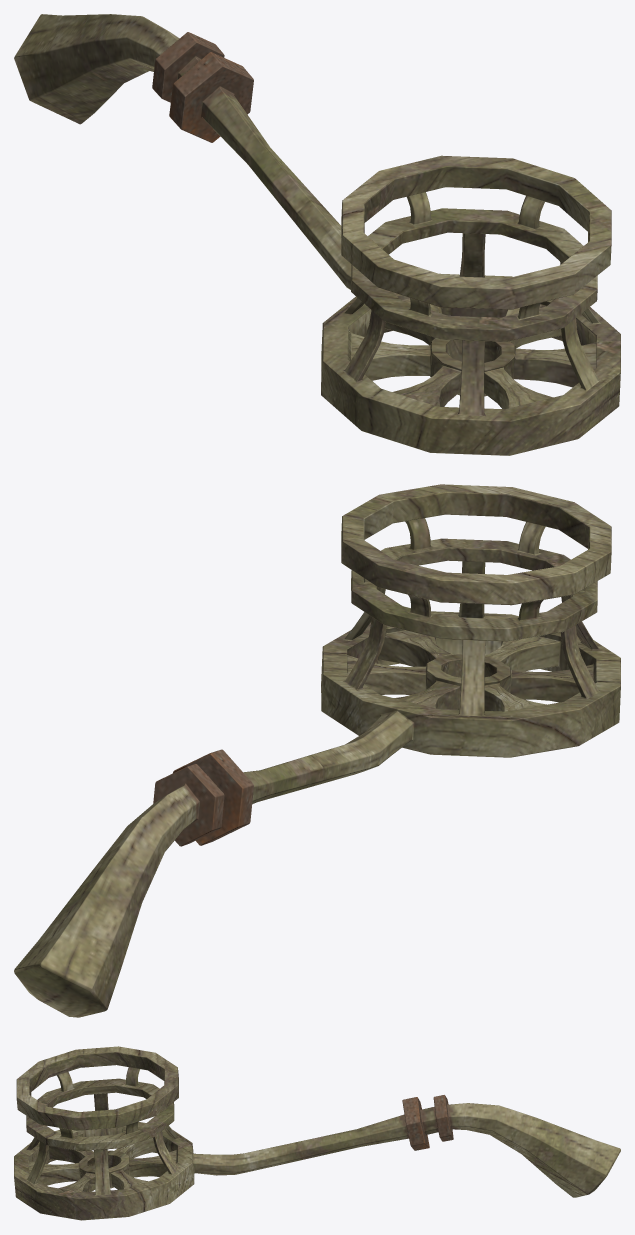
File: lamps_1_2.fbx
3 renders of one model, top to bottom at view 1: azimuth 30°, elevation 25°; view 2: azimuth 150°, elevation 25°; view 3: azimuth 270°, elevation 25°, orthographic. The views are drawn at different scales.
Visible parts, largest first — view 1: lamps_1_2; view 2: lamps_1_2; view 3: lamps_1_2.
Boxes of the visible parts, x1,y1,x2,y2 form: lamps_1_2: [14, 14, 620, 455]; lamps_1_2: [14, 484, 620, 1017]; lamps_1_2: [14, 1046, 620, 1220].
Bounding box in the file's own units: 7.91 × 5.93 × 26.8.
